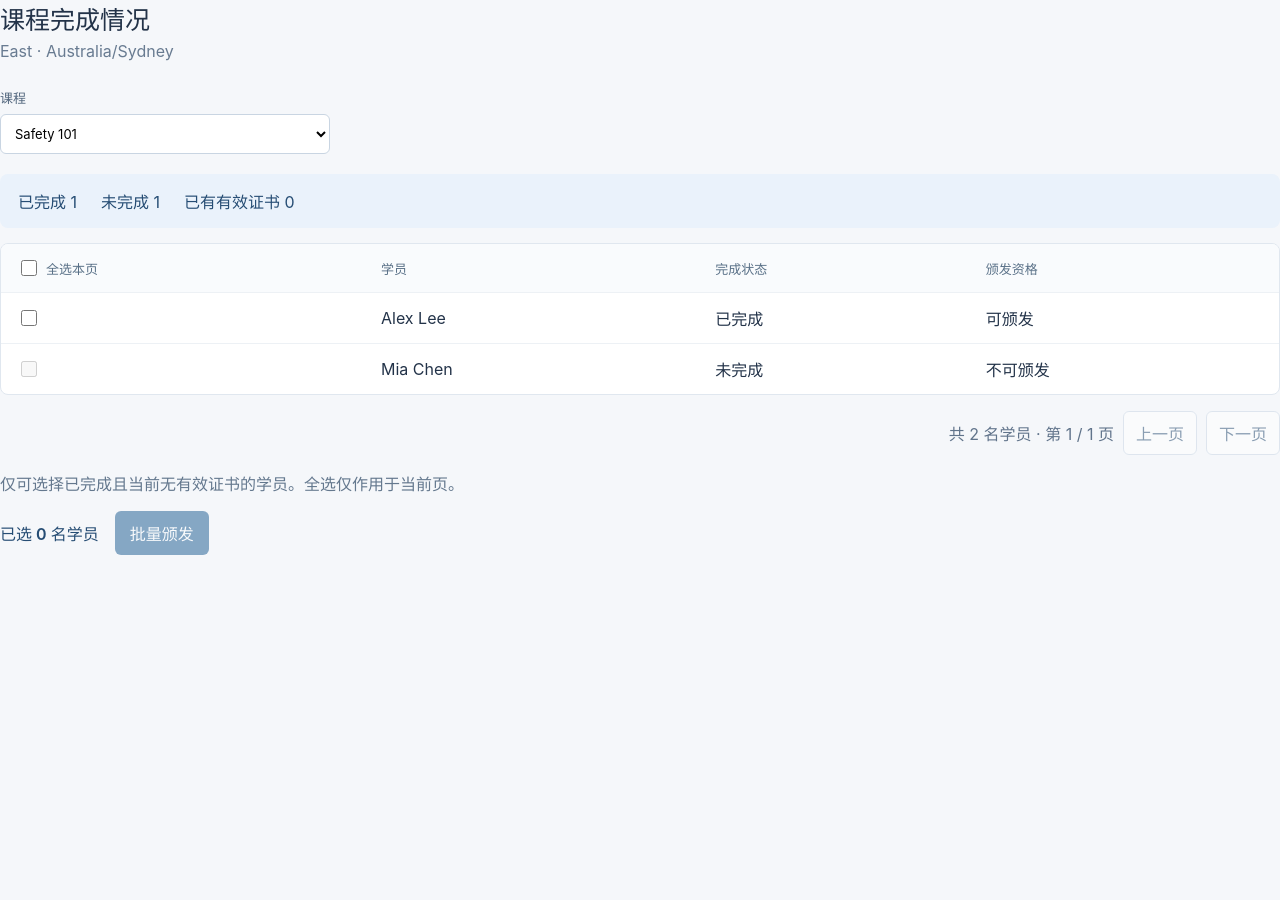
it: lets an administrator discard a confirmed key conflict and begin a fresh bulk issue
The width and height of the screenshot is (1280, 900).
Step 1. Click the checkbox named "选择 Alex Lee" → (29, 318), box [21, 310, 37, 326]
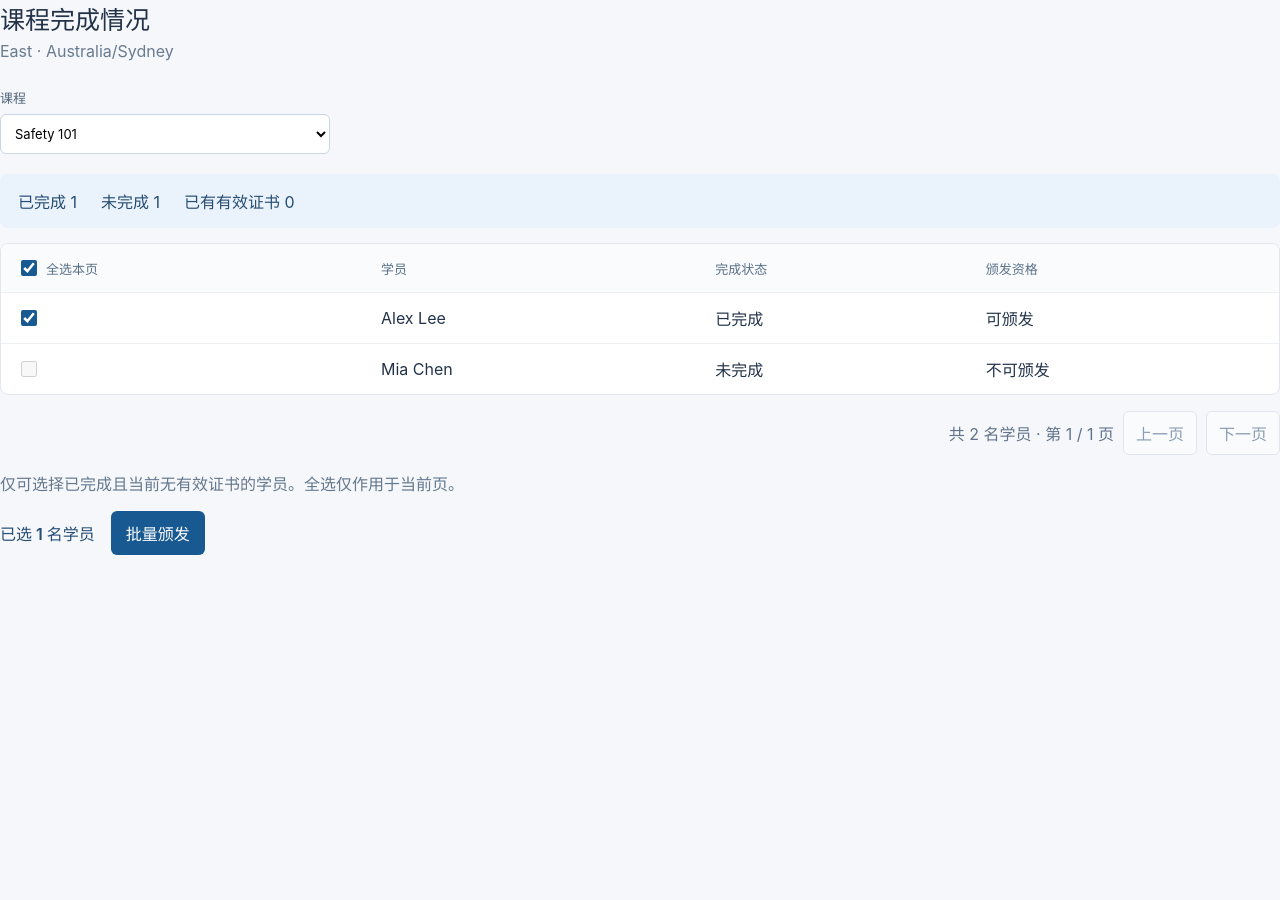
Step 2. Click the button "批量颁发" → (158, 533), box [111, 511, 205, 555]
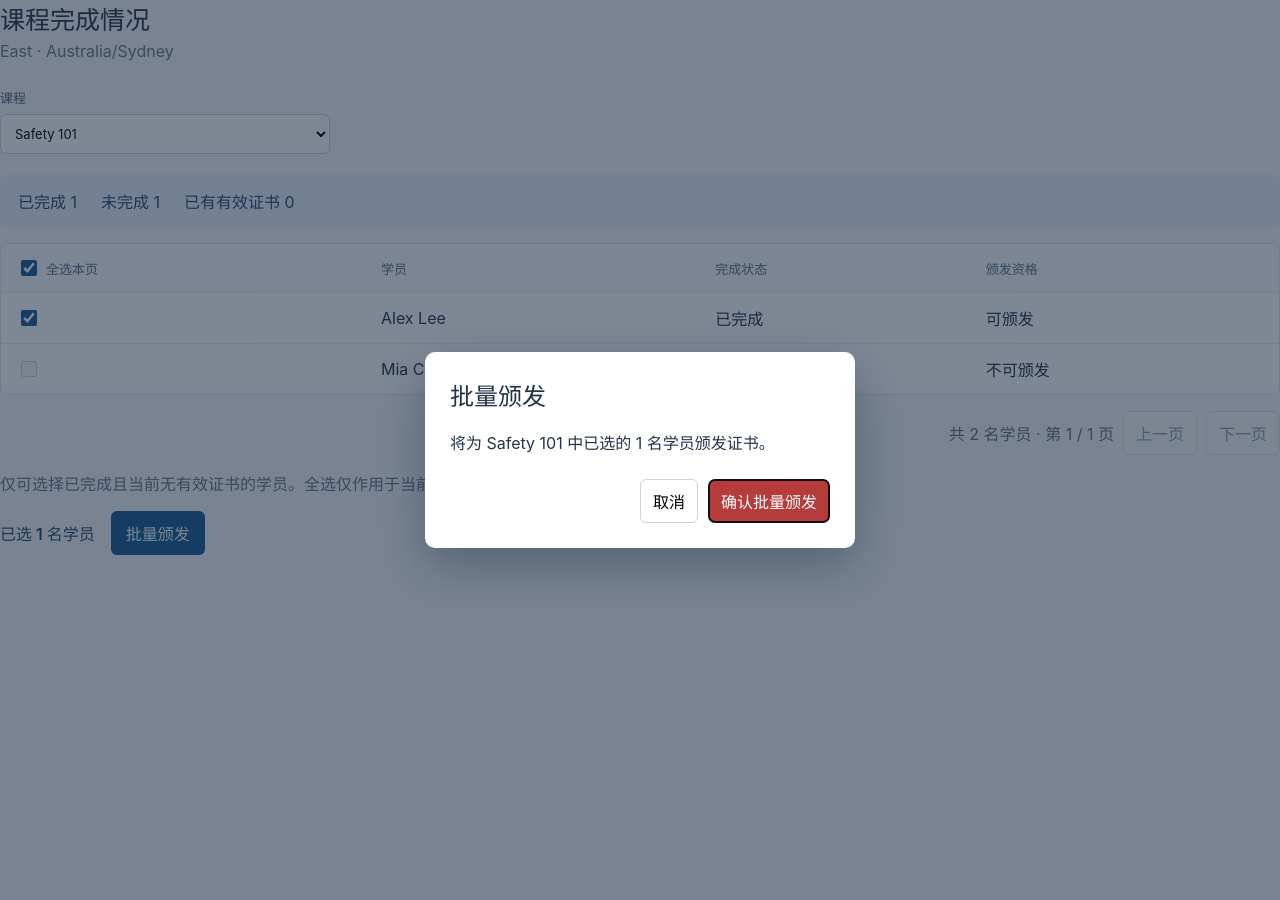
Step 3. Click the button "确认批量颁发" → (769, 502), box [708, 480, 830, 524]
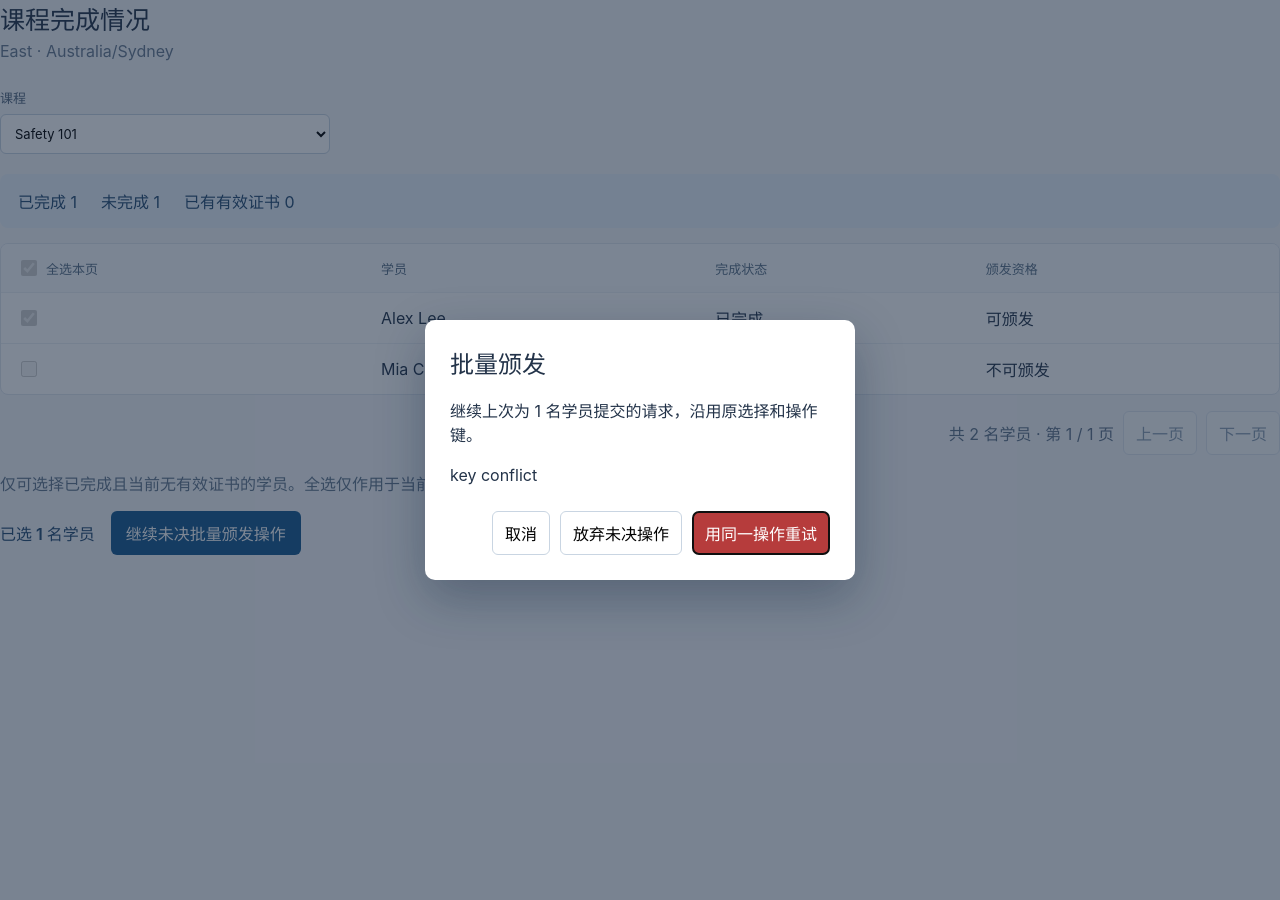
Expected: the text "key conflict" is shown, [450, 466, 537, 486]
Step 4. Click the button "放弃未决操作" → (621, 534), box [560, 512, 682, 556]
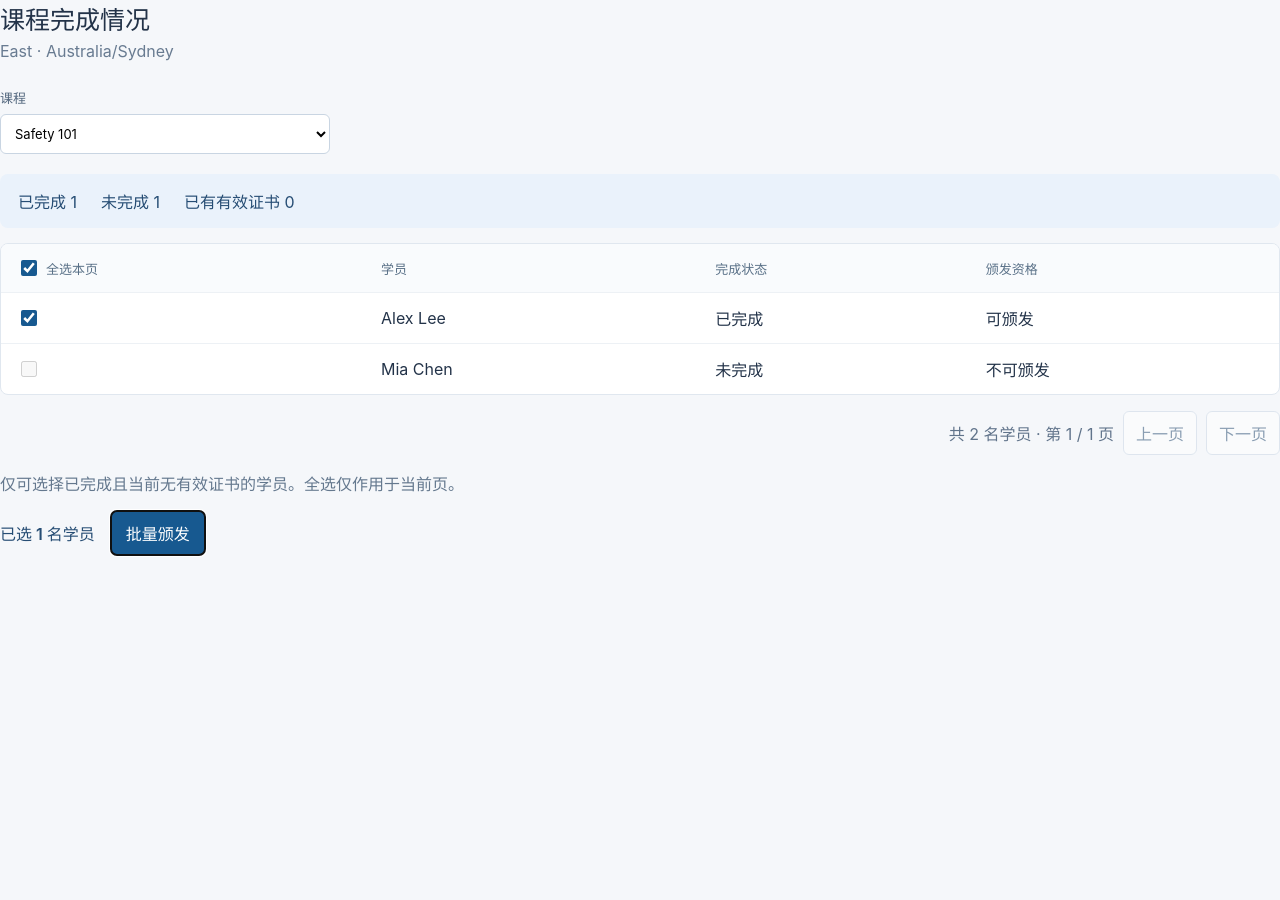
Step 5. Click the button "批量颁发" → (158, 533), box [111, 511, 205, 555]
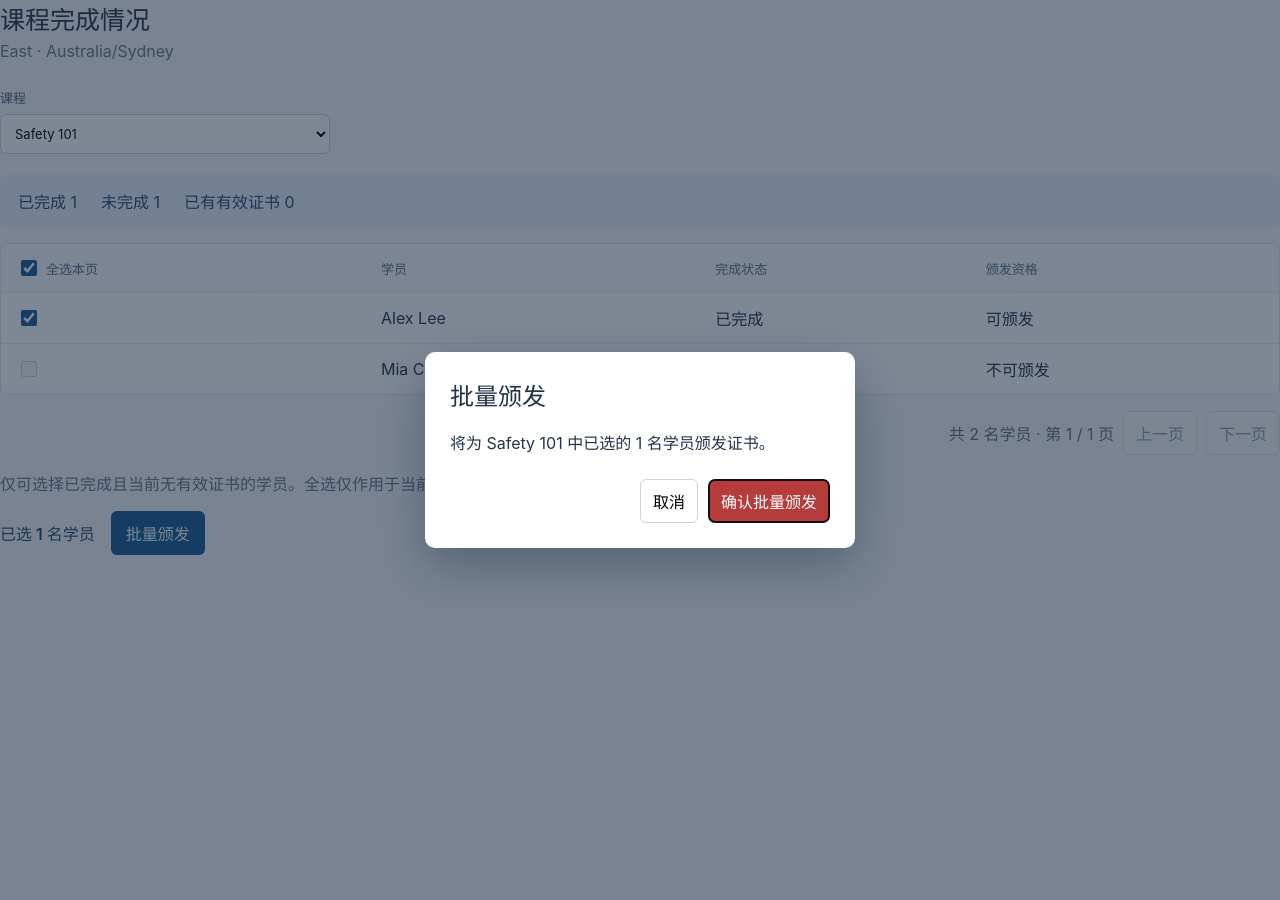
Step 6. Click the button "确认批量颁发" → (769, 502), box [708, 480, 830, 524]
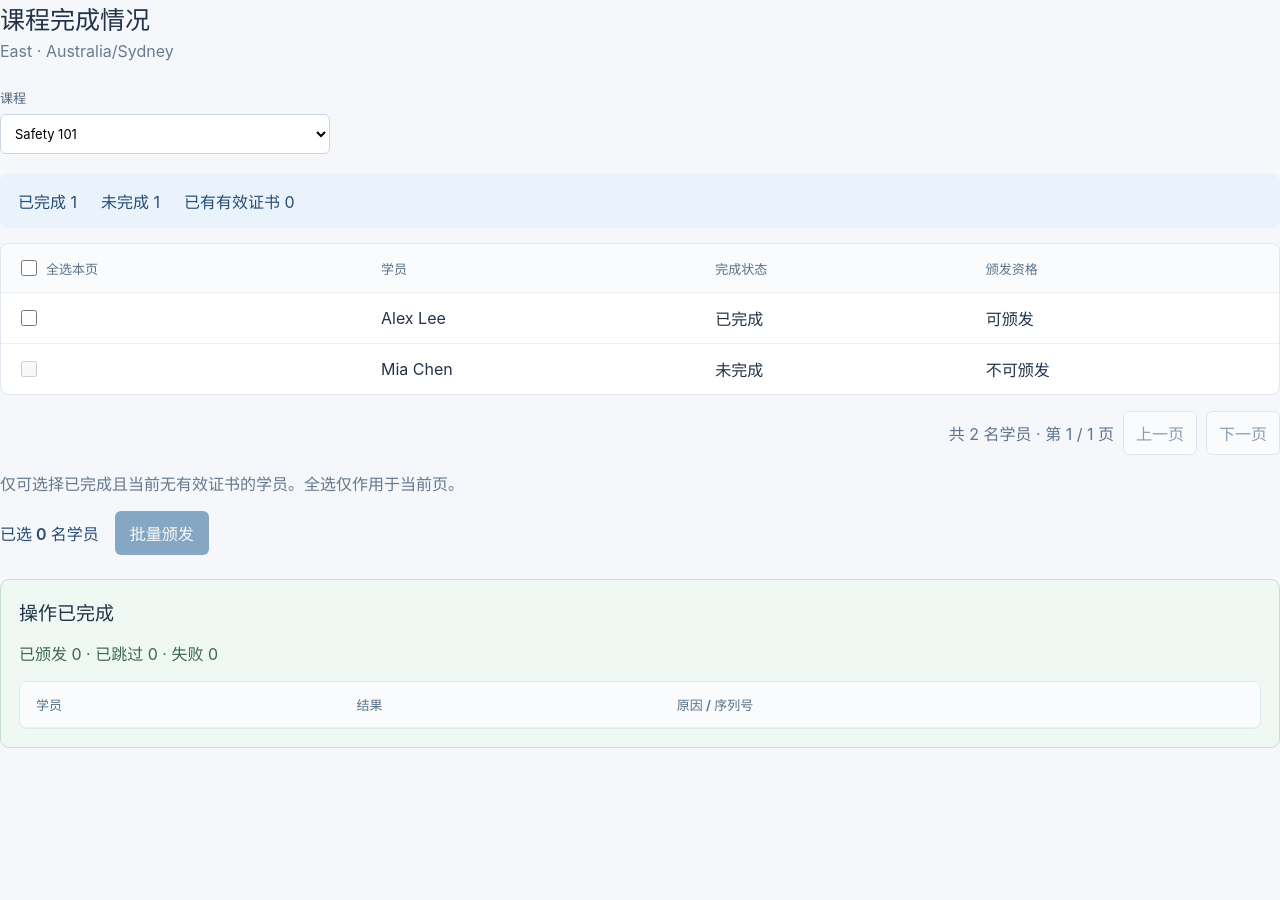
Expected: the heading "操作已完成" is shown, [19, 602, 114, 625]
